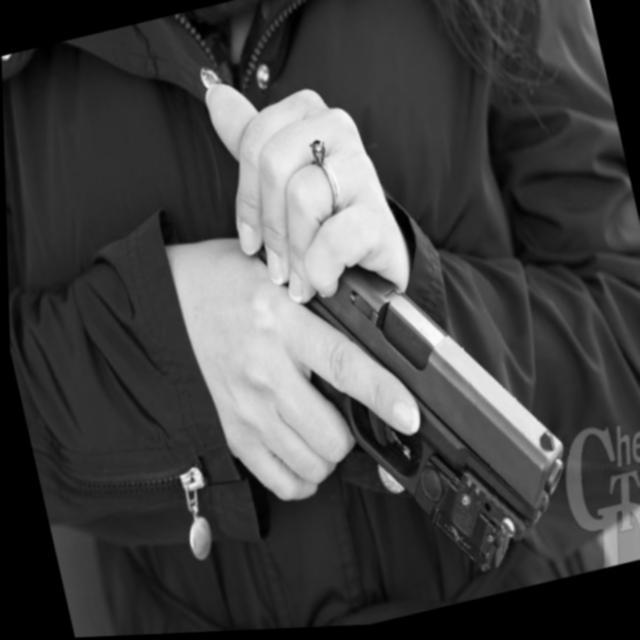weapon: (248, 184, 584, 615)
